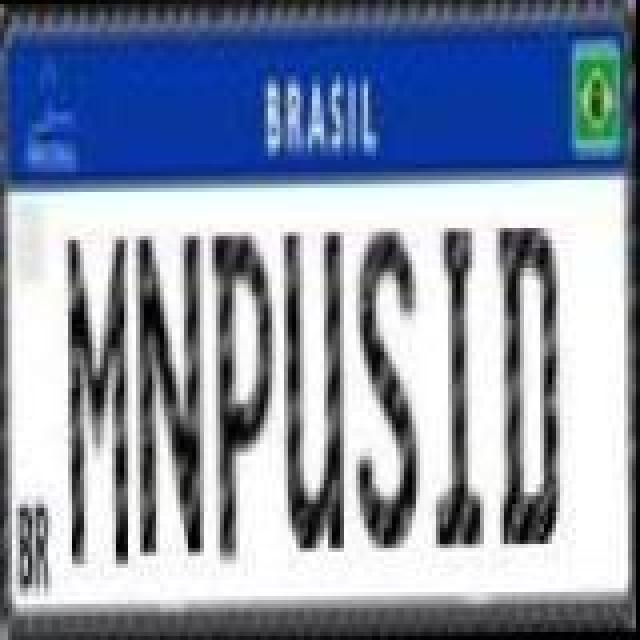D: (496, 222, 560, 546)
I: (432, 226, 488, 550)
M: (68, 236, 132, 572)
N: (136, 230, 208, 554)
P: (214, 232, 282, 568)
S: (354, 226, 422, 550)
U: (284, 228, 348, 552)
